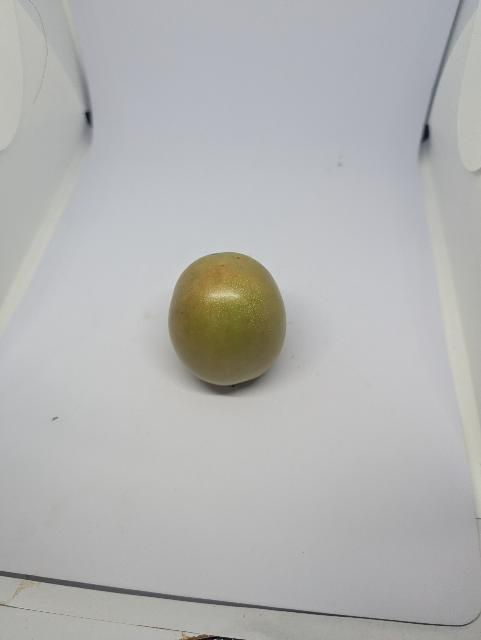breaker: (161, 244, 298, 391)
